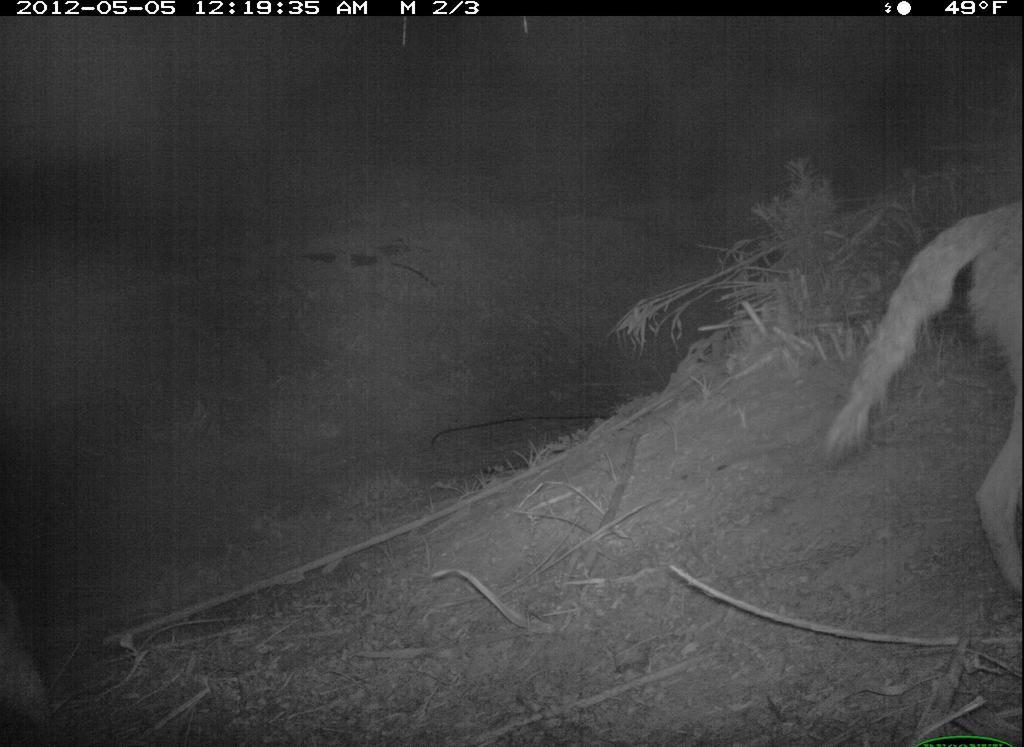coyote: (824, 181, 1022, 634)
